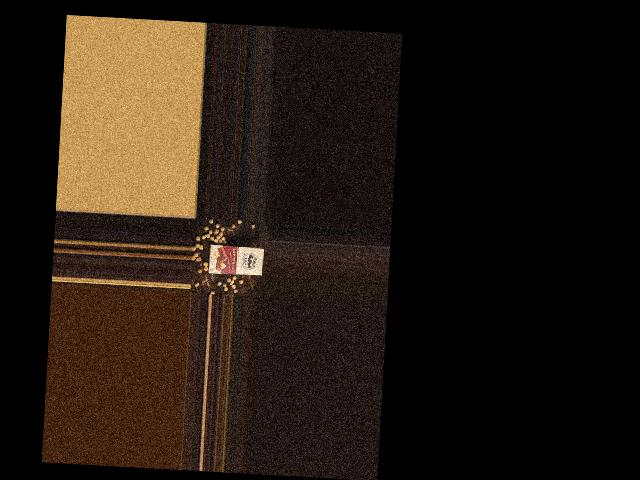chocolate: (206, 241, 265, 277)
